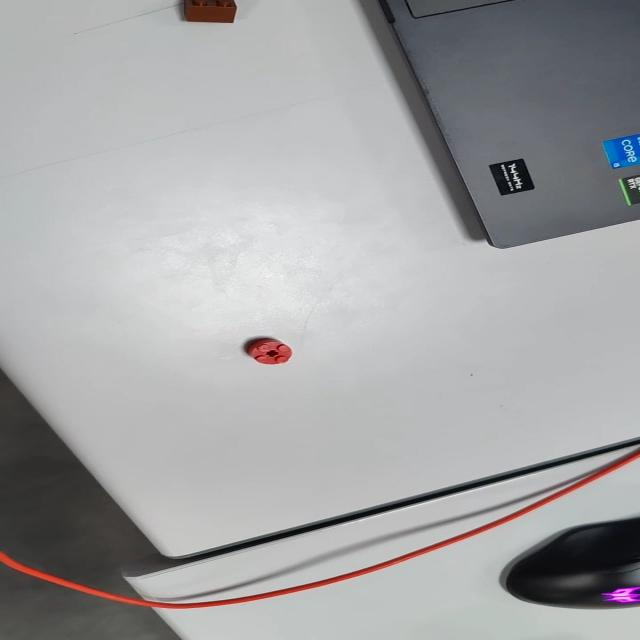S2x2x1: (238, 335, 296, 371), (239, 336, 299, 366)
